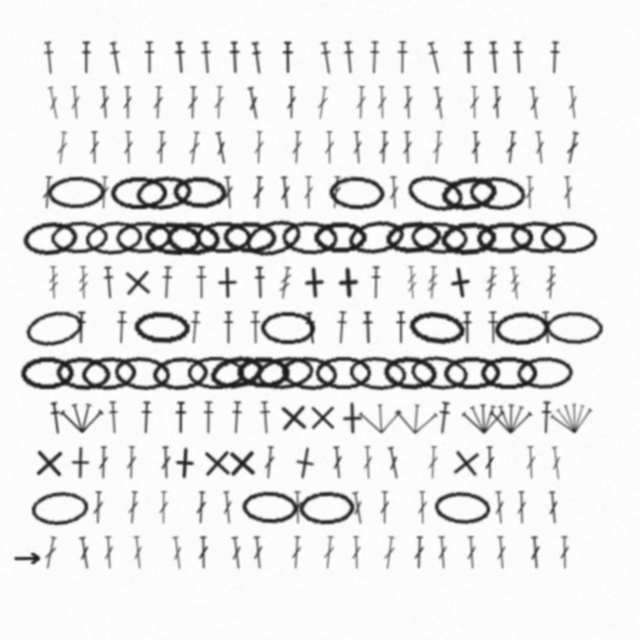chain: (242, 214, 305, 261), (404, 170, 467, 216), (23, 306, 86, 350), (207, 351, 267, 394), (346, 217, 406, 258), (255, 353, 316, 393), (439, 173, 498, 213), (407, 308, 466, 348), (134, 173, 194, 212), (409, 353, 469, 392), (348, 354, 408, 392), (30, 489, 90, 527), (21, 219, 80, 257), (113, 354, 172, 392), (280, 354, 339, 392), (84, 219, 144, 256), (468, 174, 526, 212), (509, 219, 568, 256), (384, 219, 442, 256), (143, 220, 202, 256), (410, 220, 469, 256), (151, 355, 210, 391), (382, 354, 439, 391), (439, 220, 497, 256), (493, 310, 551, 346), (433, 490, 491, 526), (47, 175, 106, 210), (165, 220, 222, 256), (55, 355, 112, 391), (80, 355, 137, 391), (328, 175, 386, 210), (50, 220, 108, 255), (281, 220, 339, 255), (241, 490, 299, 525), (298, 490, 356, 525), (115, 220, 172, 255), (133, 310, 190, 345), (545, 311, 603, 345), (172, 175, 228, 210), (222, 220, 278, 255), (476, 221, 533, 255), (516, 356, 573, 390), (540, 221, 598, 254), (187, 356, 245, 389), (110, 176, 167, 209), (315, 356, 372, 389), (443, 356, 500, 389), (480, 356, 537, 389), (195, 221, 251, 254), (313, 221, 368, 254), (260, 311, 315, 344), (20, 356, 75, 389), (236, 356, 291, 389)
double: (45, 86, 62, 120), (245, 86, 262, 120), (564, 131, 581, 165), (385, 446, 402, 480), (42, 536, 59, 570), (431, 86, 447, 120), (213, 131, 229, 165), (350, 491, 366, 525), (315, 86, 330, 120), (527, 86, 542, 120), (187, 131, 202, 165), (549, 446, 564, 480), (77, 536, 92, 570), (170, 536, 185, 570), (229, 536, 244, 570), (382, 536, 397, 570), (55, 131, 69, 165), (566, 86, 580, 119), (504, 131, 518, 164), (533, 131, 547, 164), (329, 176, 343, 209), (126, 491, 140, 524), (131, 536, 145, 569), (251, 536, 265, 569), (322, 536, 336, 569), (69, 86, 82, 119), (98, 86, 111, 119), (351, 131, 364, 164), (431, 131, 444, 164), (41, 176, 54, 209), (222, 176, 235, 209), (252, 176, 265, 209), (279, 176, 292, 209), (263, 446, 276, 479), (331, 446, 344, 479), (221, 491, 234, 524), (493, 491, 506, 524), (547, 491, 560, 524), (290, 536, 303, 569), (436, 536, 449, 569), (465, 536, 478, 569), (495, 536, 508, 569), (529, 536, 542, 569), (152, 86, 164, 119), (187, 86, 199, 119), (213, 86, 225, 119), (355, 86, 367, 119), (376, 86, 388, 119), (402, 86, 414, 119), (491, 86, 503, 119), (253, 131, 265, 164), (291, 131, 303, 164), (378, 131, 390, 164), (470, 131, 482, 164), (98, 176, 110, 209), (388, 176, 400, 209), (562, 176, 574, 209), (160, 446, 172, 479), (362, 446, 374, 479), (427, 446, 439, 479), (525, 446, 537, 479), (92, 491, 104, 524), (195, 491, 207, 524), (103, 536, 115, 569), (413, 536, 425, 569), (122, 86, 133, 119), (286, 86, 297, 119), (469, 86, 480, 119), (89, 131, 100, 164), (123, 131, 134, 164), (156, 131, 167, 164), (324, 131, 335, 164), (402, 131, 413, 164), (303, 176, 314, 209), (524, 176, 535, 209), (98, 446, 109, 479), (126, 446, 137, 479), (484, 446, 495, 479), (158, 491, 169, 524), (292, 491, 303, 524), (379, 491, 390, 524), (417, 491, 428, 524), (516, 491, 527, 524), (198, 536, 209, 569), (351, 536, 362, 569), (559, 536, 570, 569)
fan: (548, 398, 596, 437), (393, 400, 439, 436), (358, 400, 403, 435), (461, 401, 506, 435), (489, 401, 533, 435), (60, 401, 104, 434)
half_double: (425, 41, 444, 75), (107, 41, 124, 75), (318, 41, 335, 75), (41, 41, 57, 75), (249, 41, 265, 75), (303, 311, 319, 345), (48, 401, 64, 435), (436, 401, 452, 435), (199, 41, 214, 74), (334, 311, 349, 344), (539, 311, 554, 344), (258, 401, 273, 434), (173, 41, 187, 74), (342, 41, 356, 74), (487, 41, 501, 74), (511, 41, 525, 74), (102, 266, 116, 299), (160, 266, 174, 299), (253, 266, 267, 299), (188, 311, 202, 344), (361, 311, 375, 344), (139, 401, 153, 434), (539, 401, 553, 434), (143, 41, 156, 74), (228, 41, 241, 74), (281, 41, 294, 74), (368, 41, 381, 74), (396, 41, 409, 74), (462, 41, 475, 74), (548, 41, 561, 74), (195, 266, 208, 299), (115, 311, 128, 344), (222, 311, 235, 344), (249, 311, 262, 344), (107, 401, 120, 434), (174, 401, 187, 434), (202, 401, 215, 434), (230, 401, 243, 434), (80, 41, 92, 74), (370, 266, 382, 299), (75, 311, 87, 344), (395, 311, 407, 344), (461, 311, 473, 344), (487, 311, 499, 344)
noise: (13, 553, 42, 564)
single: (286, 444, 324, 482), (442, 264, 479, 301), (448, 445, 484, 481), (120, 265, 155, 300), (297, 265, 332, 300), (331, 265, 366, 300), (276, 400, 311, 435), (335, 401, 369, 435), (32, 446, 66, 480), (168, 446, 202, 480), (200, 446, 234, 480), (225, 446, 259, 480), (211, 266, 244, 299), (306, 401, 339, 434), (64, 446, 97, 479)
treble: (277, 266, 293, 300), (484, 266, 498, 300), (508, 266, 522, 300), (426, 266, 439, 299), (406, 266, 418, 299), (545, 266, 557, 299), (48, 266, 59, 299), (78, 266, 89, 299)
